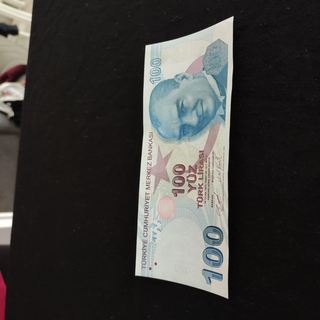100TLFront: (134, 15, 234, 299)
